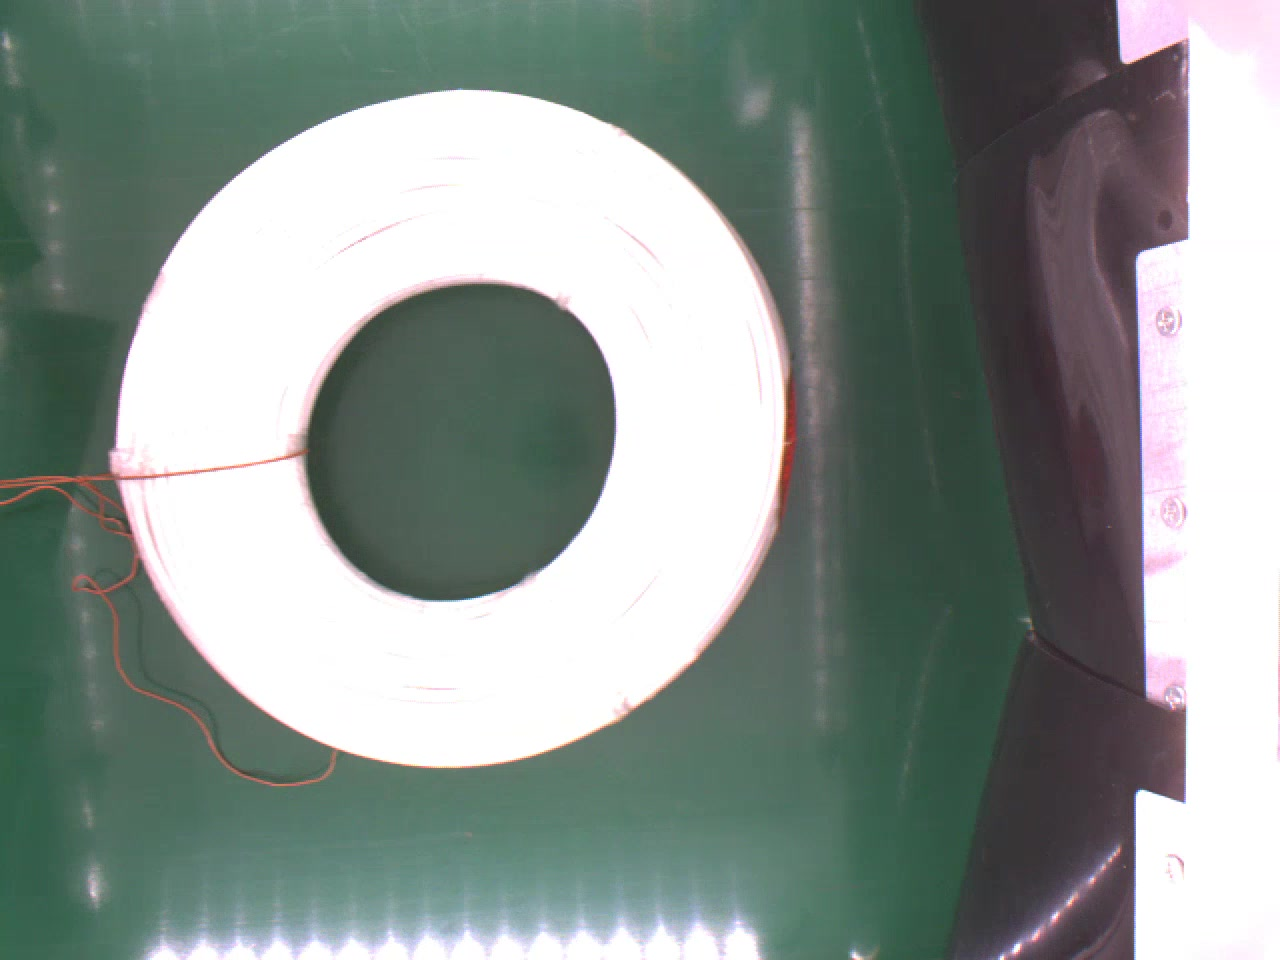white: (102, 82, 795, 765)
